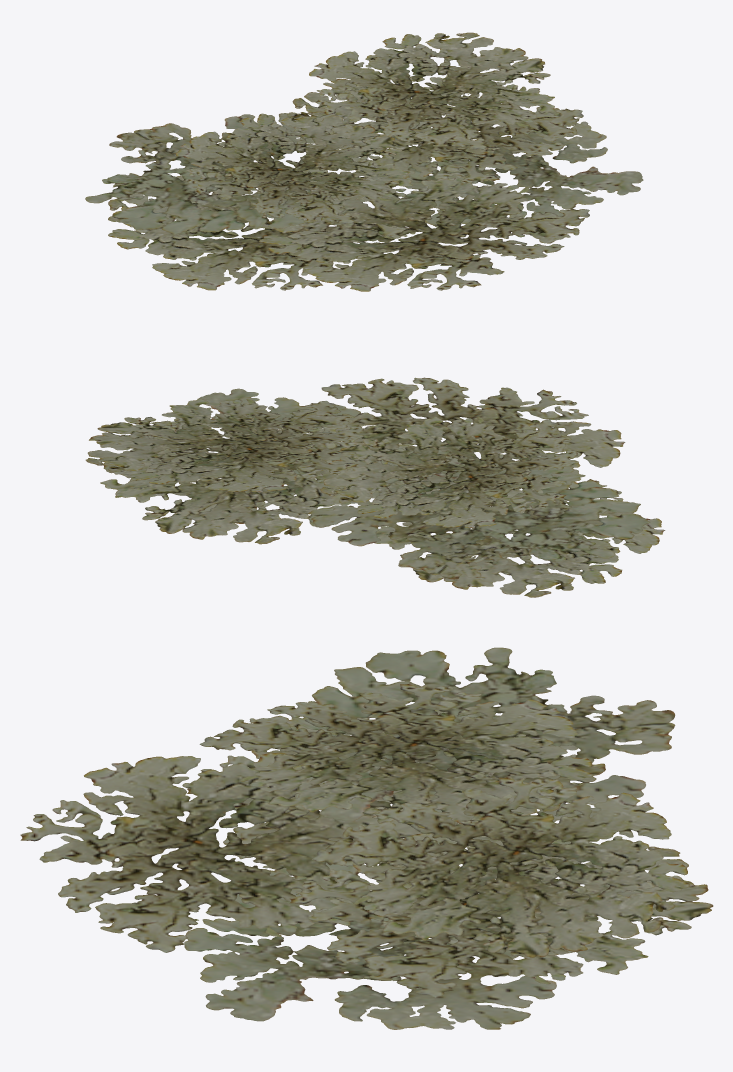
The model's file is SJHD_plant_06.FBX.
3 renders of one model, top to bottom at view 1: azimuth 30°, elevation 25°; view 2: azimuth 150°, elevation 25°; view 3: azimuth 270°, elevation 25°, orthographic. The views are drawn at different scales.
Parts seen in each view (by area): view 1: SJHD_plant_06; view 2: SJHD_plant_06; view 3: SJHD_plant_06.
Part boxes in pixels (x1,y1,x2,y2): SJHD_plant_06: (85,32,643,291); SJHD_plant_06: (85,377,665,597); SJHD_plant_06: (20,647,713,1029).
Bounding box in the file's own units: 200 × 26.31 × 160.
1 material, 1 textured.
